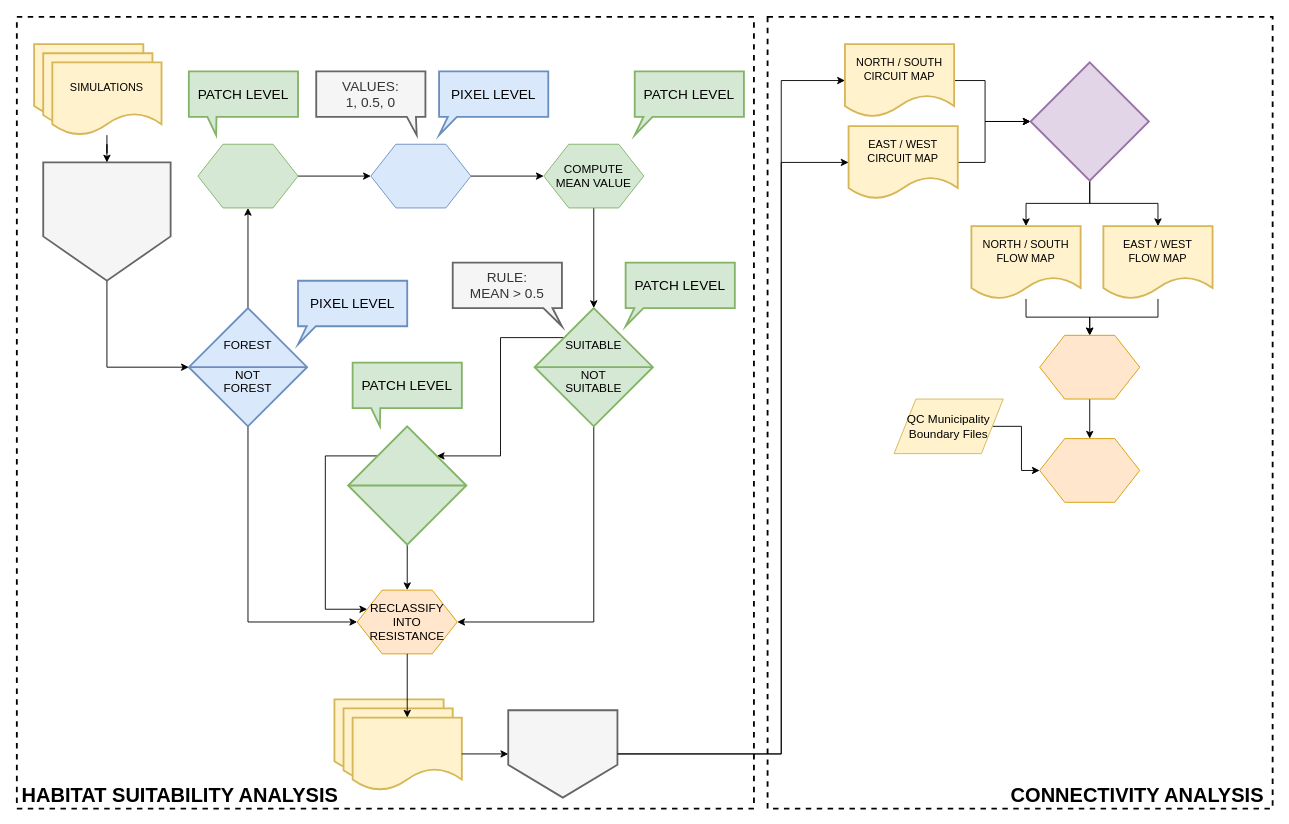
Image size: 1289x824. Some labels were removed from this diagram. Here are the shapes that lost their labels. From the top down, the centre of each, then its label:
pixel 1089 121: CIRCUITSCAPE
pixel 247 175: CLUMP
pixel 420 175: RECLASSIFY BASED ON SUITABILITY
pixel 106 221: FOR EACH: - ITERATION - TIMESTEP - SPECIES
pixel 1089 366: SUM
pixel 407 485: PATCH GOOD SIZE PATH TOO SMALL
pixel 1089 470: ZONAL STATISTICS
pixel 406 753: RESISTANCE MAPS
pixel 562 753: FOR EACH RESISTANCE MAP
